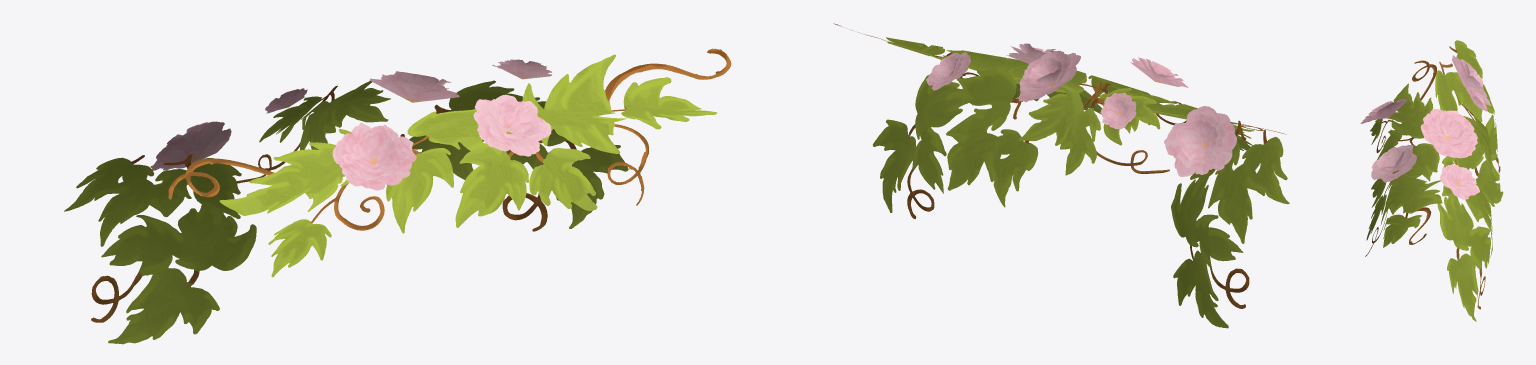
The model's file is sm_fleurs_02.fbx.
The picture shows the model from 3 angles, left to right: view 1: azimuth 30°, elevation 25°; view 2: azimuth 150°, elevation 25°; view 3: azimuth 270°, elevation 25°; orthographic projection. The views are drawn at different scales.
Visible parts, largest first — view 1: sm_fleurs_02; view 2: sm_fleurs_02; view 3: sm_fleurs_02.
Boxes of the visible parts, x1,y1,x2,y2 form: sm_fleurs_02: [64, 48, 731, 344]; sm_fleurs_02: [833, 23, 1289, 328]; sm_fleurs_02: [1360, 40, 1503, 321].
Bounding box in the file's own units: 223 × 99.93 × 77.15.
